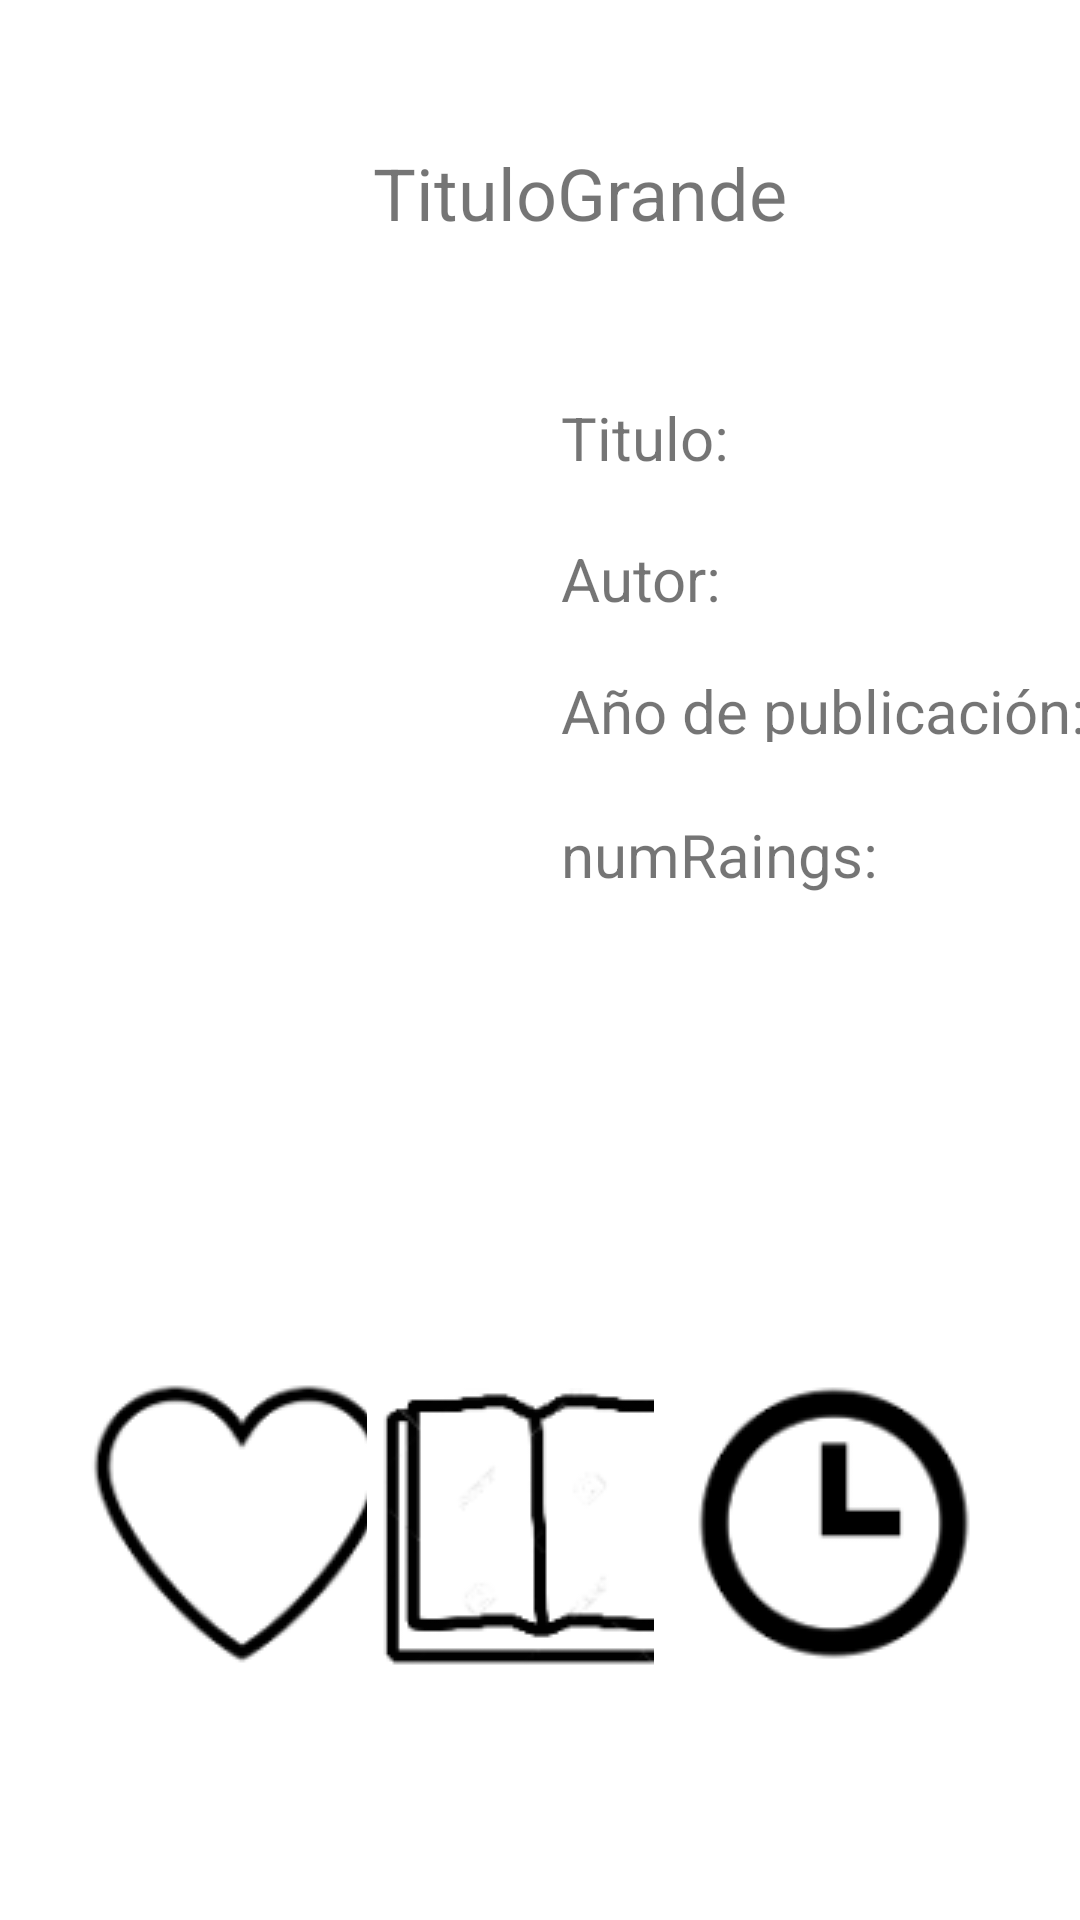

Where icons sit on this 1080px x 1920px app screen, as bbox=(x1, y1, x2, y2):
corazon: bbox=(94, 1385, 367, 1662)
libro: bbox=(385, 1393, 654, 1665)
reloj: bbox=(699, 1388, 970, 1659)
